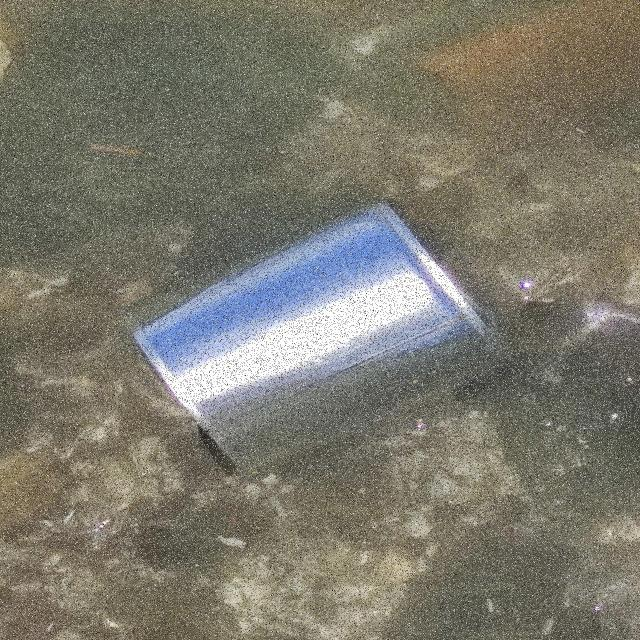metal_waste: (120, 199, 522, 477)
